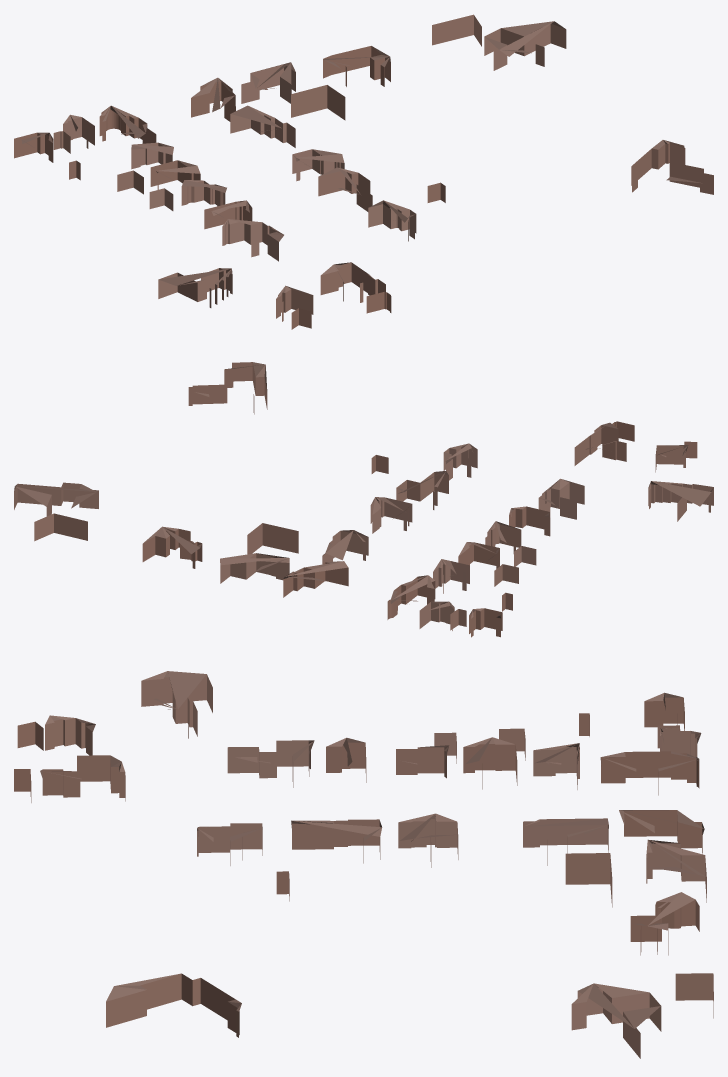
File: c_1646_17823_buildings_residential.glb
3 renders of one model, top to bottom at view 1: azimuth 30°, elevation 25°; view 2: azimuth 150°, elevation 25°; view 3: azimuth 270°, elevation 25°, orthographic. The views are drawn at different scales.
Parts seen in each view (by area): view 1: geometry_0; view 2: geometry_0; view 3: geometry_0.
Boxes of the visible parts, x1,y1,x2,y2 form: geometry_0: (14, 14, 713, 329); geometry_0: (14, 362, 713, 637); geometry_0: (14, 671, 713, 1058).
Bounding box in the file's own units: 274 × 11.08 × 223.
